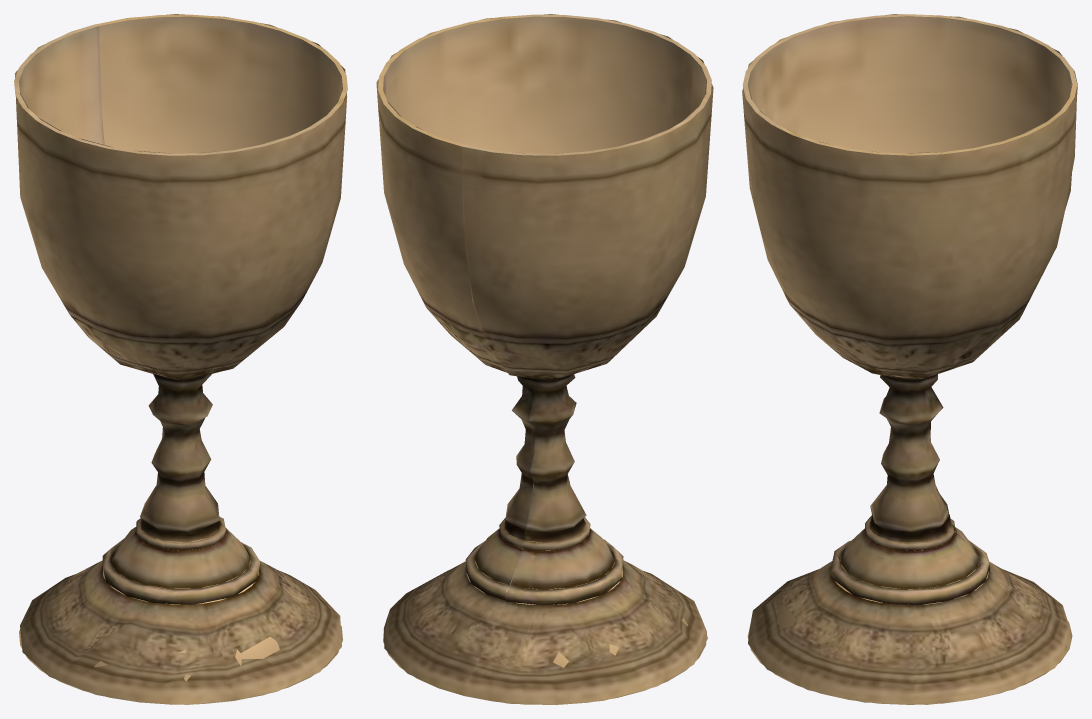
The model's file is goblet_a.glb.
3 views of the same model, side by side, from view 1: azimuth 30°, elevation 25°; view 2: azimuth 150°, elevation 25°; view 3: azimuth 270°, elevation 25° (orthographic).
Parts seen in each view (by area): view 1: brass_goblet_01; view 2: brass_goblet_01; view 3: brass_goblet_01.
Part boxes in pixels (left/top/right/bottom): brass_goblet_01: left=14, top=14, right=347, bottom=704; brass_goblet_01: left=376, top=14, right=713, bottom=704; brass_goblet_01: left=742, top=14, right=1077, bottom=704.
Bounding box in the file's own units: 0.1502 × 0.272 × 0.1501.
1 material, 1 textured.
